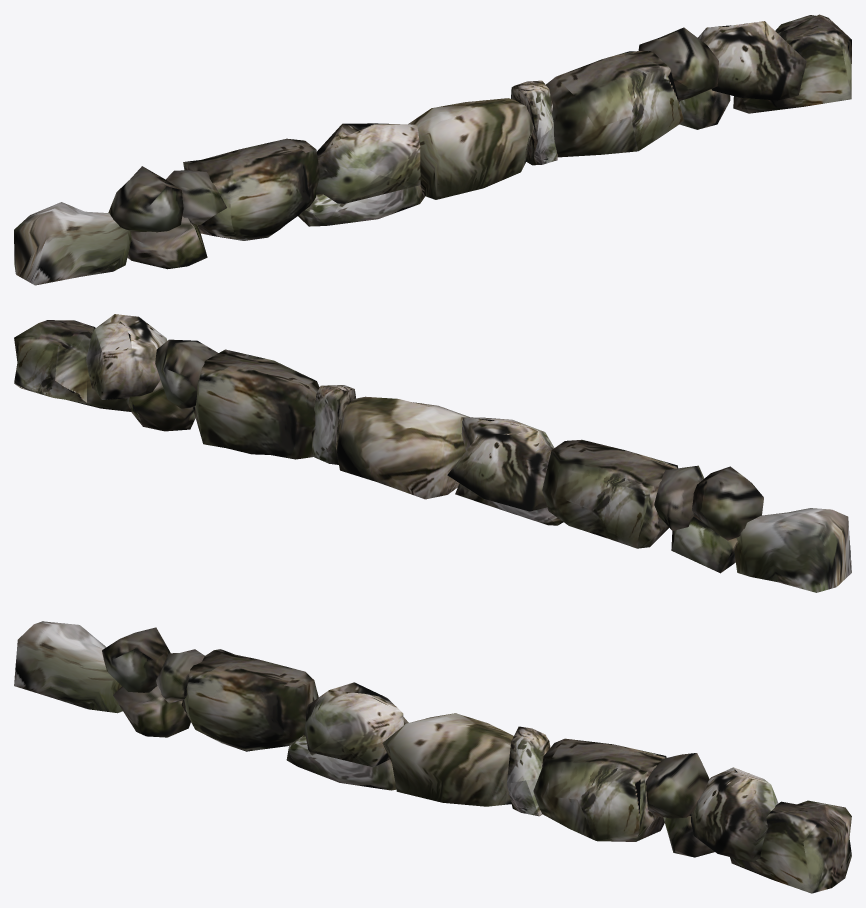
File: STR_WallStoneD.FBX
3 renders of one model, top to bottom at view 1: azimuth 30°, elevation 25°; view 2: azimuth 150°, elevation 25°; view 3: azimuth 330°, elevation 25°, orthographic.
Visible parts, largest first — view 1: STR_WallStoneD; view 2: STR_WallStoneD; view 3: STR_WallStoneD.
Part boxes in pixels (x1,y1,x2,y2): STR_WallStoneD: (14, 14, 851, 285); STR_WallStoneD: (14, 314, 851, 592); STR_WallStoneD: (14, 621, 851, 893).
Size of the model in its own units: 885 by 97.63 by 105.
